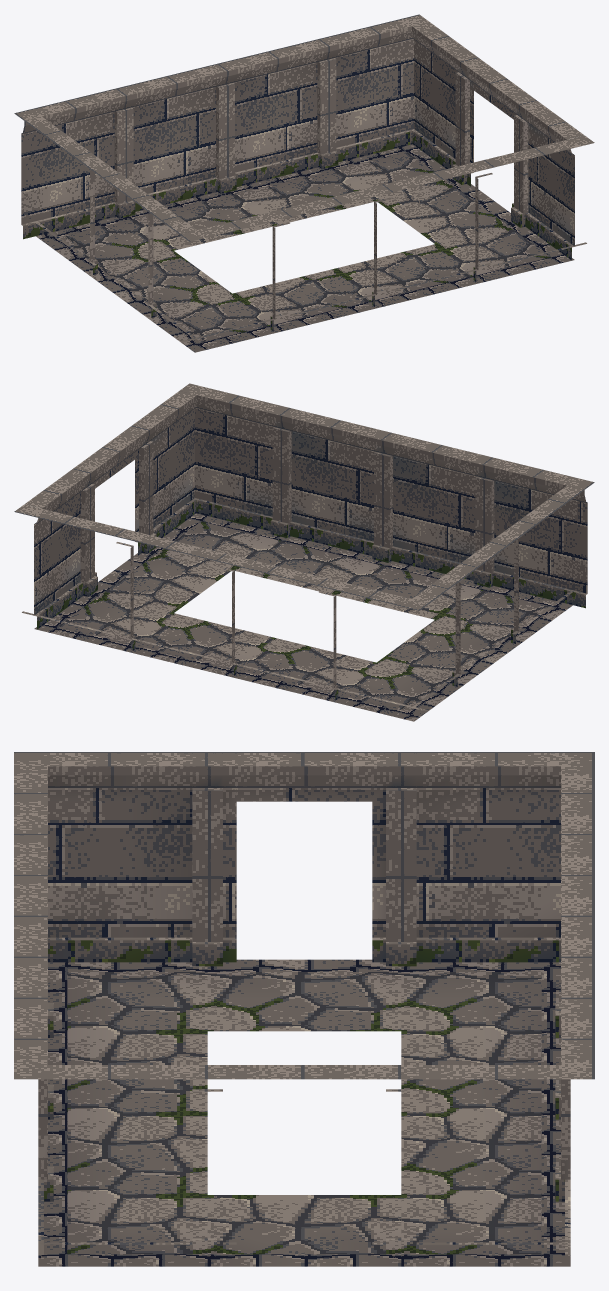
The model's file is dgn.room__pit.glb.
The picture shows the model from 3 angles, top to bottom: view 1: azimuth 30°, elevation 25°; view 2: azimuth 150°, elevation 25°; view 3: azimuth 270°, elevation 25°; orthographic projection. The views are drawn at different scales.
Parts seen in each view (by area): view 1: kit_shell_walls, kit_shell_floor; view 2: kit_shell_walls, kit_shell_floor; view 3: kit_shell_walls, kit_shell_floor.
Boxes of the visible parts, left/top/right/bottom form: kit_shell_walls: left=14, top=14, right=594, bottom=342; kit_shell_floor: left=36, top=144, right=574, bottom=352; kit_shell_walls: left=14, top=383, right=594, bottom=711; kit_shell_floor: left=34, top=513, right=572, bottom=721; kit_shell_walls: left=14, top=752, right=594, bottom=1254; kit_shell_floor: left=38, top=959, right=570, bottom=1266.
Size of the model in its own units: 16 by 4.5 by 12.
Materials: 5 (5 with a texture image).
